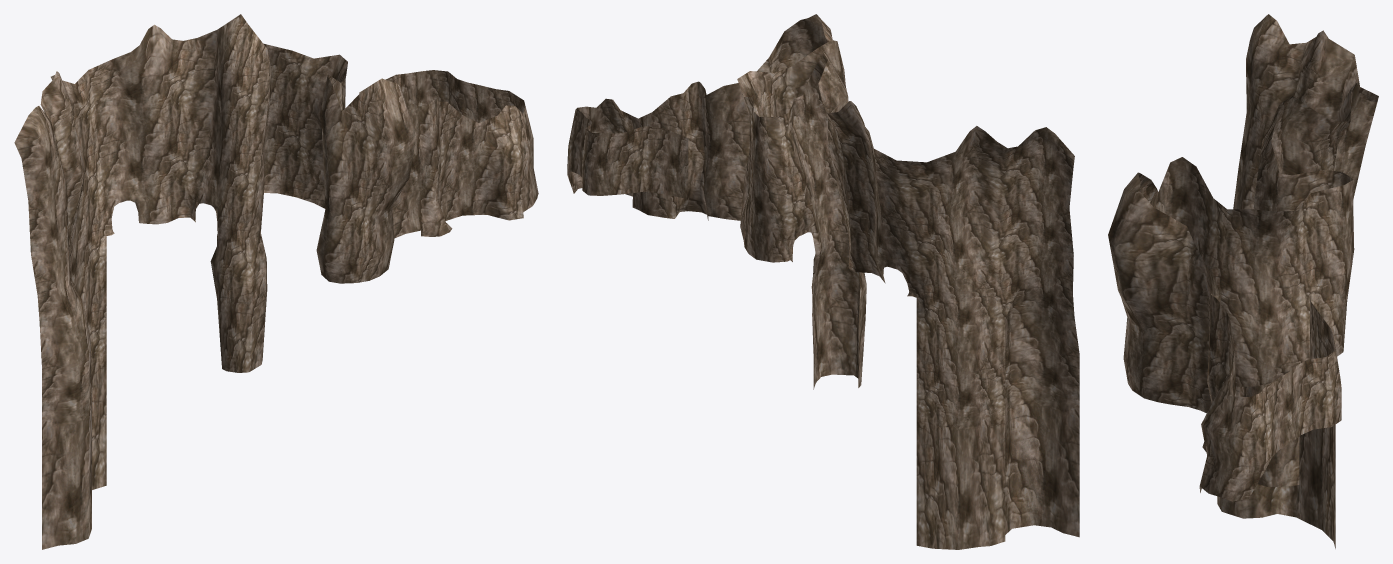
The model's file is OVERHILL_A_01_OBJECT118.fbx.
3 renders of one model, left to right at view 1: azimuth 30°, elevation 25°; view 2: azimuth 150°, elevation 25°; view 3: azimuth 270°, elevation 25°, orthographic. The views are drawn at different scales.
Visible parts, largest first — view 1: OVERHILL_A_01_OBJECT118; view 2: OVERHILL_A_01_OBJECT118; view 3: OVERHILL_A_01_OBJECT118.
Boxes of the visible parts, x1,y1,x2,y2 form: OVERHILL_A_01_OBJECT118: [14, 14, 538, 549]; OVERHILL_A_01_OBJECT118: [567, 14, 1079, 549]; OVERHILL_A_01_OBJECT118: [1108, 14, 1378, 548].
Bounding box in the file's own units: 460656 × 393289 × 186536.
1 material, 1 textured.
